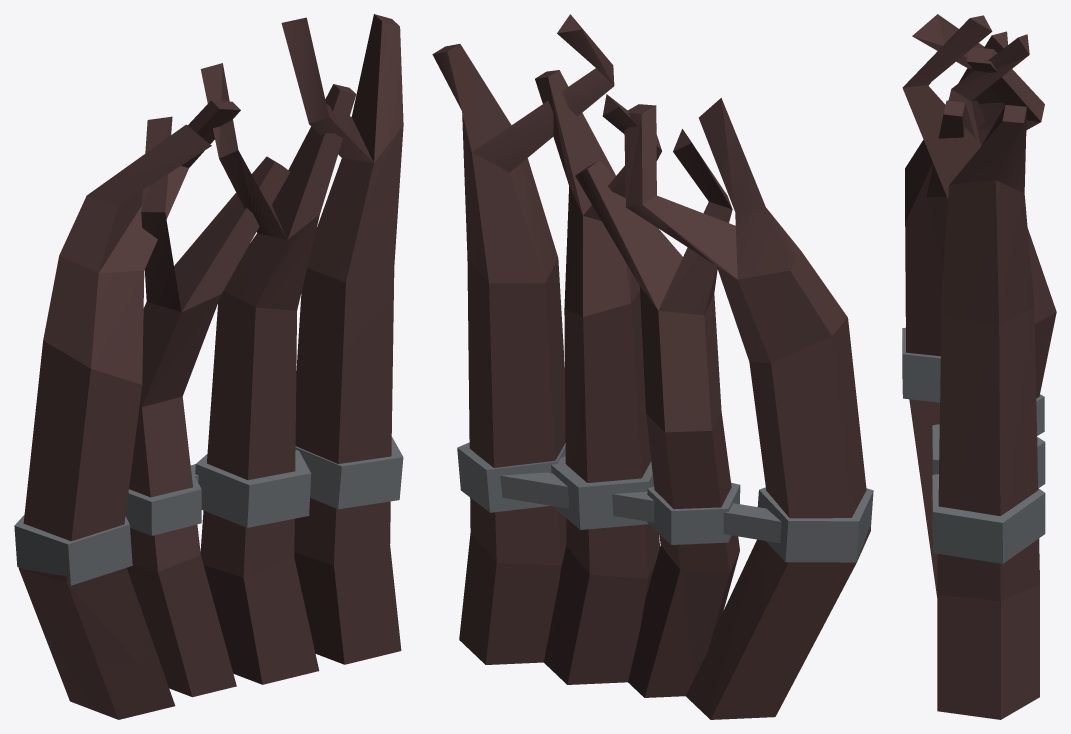
The model's file is DarkRoseWoodMechSmallVineDoorwLatch2.fbx.
The picture shows the model from 3 angles, left to right: view 1: azimuth 30°, elevation 25°; view 2: azimuth 150°, elevation 25°; view 3: azimuth 270°, elevation 25°; orthographic projection. The views are drawn at different scales.
Visible parts, largest first — view 1: TreeDoor_001, DoorCOL11, DoorCOL6, DoorCOL10, DoorCOL2, DoorCOL5, DoorCOL1, DoorCOL13, DoorCOL7, DoorCOL16, DoorCOL15, DoorCOL4 (+2 smaller); view 2: TreeDoor_001, DoorCOL6, DoorCOL5, DoorCOL11, DoorCOL13, DoorCOL9, DoorCOL1, DoorCOL10, DoorCOL2, DoorCOL15, DoorCOL14, DoorCOL7 (+5 smaller); view 3: TreeDoor_001, DoorCOL1, DoorCOL2, DoorCOL6, DoorCOL13, DoorCOL4, DoorCOL17, DoorCOL12, DoorCOL16, DoorCOL11, DoorCOL7, DoorCOL3 (+2 smaller).
Part boxes in pixels (bbox=[...]): TreeDoor_001: bbox=[14, 14, 403, 719]; DoorCOL11: bbox=[200, 227, 303, 577]; DoorCOL6: bbox=[34, 257, 143, 581]; DoorCOL10: bbox=[203, 559, 319, 683]; DoorCOL2: bbox=[307, 18, 402, 282]; DoorCOL5: bbox=[57, 569, 171, 715]; DoorCOL1: bbox=[332, 267, 400, 663]; DoorCOL13: bbox=[132, 296, 218, 547]; DoorCOL7: bbox=[60, 125, 211, 254]; DoorCOL16: bbox=[200, 63, 286, 239]; DoorCOL15: bbox=[174, 156, 289, 296]; DoorCOL4: bbox=[286, 27, 329, 123]; TreeDoor_001: bbox=[433, 14, 873, 719]; DoorCOL6: bbox=[716, 266, 870, 562]; DoorCOL5: bbox=[686, 539, 856, 716]; DoorCOL11: bbox=[566, 188, 659, 578]; DoorCOL13: bbox=[646, 310, 739, 572]; DoorCOL9: bbox=[631, 551, 739, 697]; DoorCOL1: bbox=[459, 274, 560, 664]; DoorCOL10: bbox=[543, 547, 655, 682]; DoorCOL2: bbox=[432, 44, 551, 283]; DoorCOL15: bbox=[575, 161, 673, 310]; DoorCOL14: bbox=[658, 148, 732, 314]; DoorCOL7: bbox=[698, 98, 789, 278]; TreeDoor_001: bbox=[902, 14, 1047, 719]; DoorCOL1: bbox=[937, 308, 1039, 719]; DoorCOL2: bbox=[941, 105, 1034, 321]; DoorCOL6: bbox=[906, 130, 1026, 355]; DoorCOL13: bbox=[1027, 228, 1056, 398]; DoorCOL4: bbox=[903, 18, 988, 87]; DoorCOL17: bbox=[967, 48, 1044, 121]; DoorCOL12: bbox=[926, 103, 975, 197]; DoorCOL16: bbox=[958, 34, 1029, 94]; DoorCOL11: bbox=[926, 197, 947, 269]; DoorCOL7: bbox=[937, 14, 1001, 103]; DoorCOL3: bbox=[902, 86, 939, 177].
Bounding box in the file's own units: 319 × 484 × 104.
